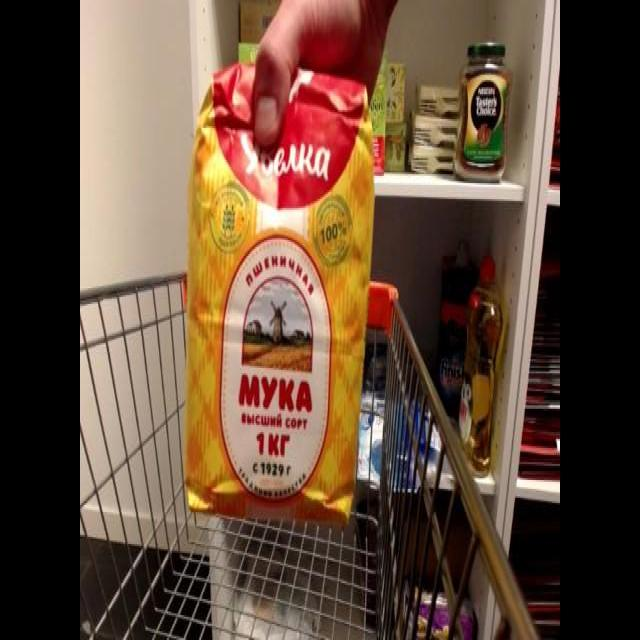Flour: (185, 64, 377, 523)
